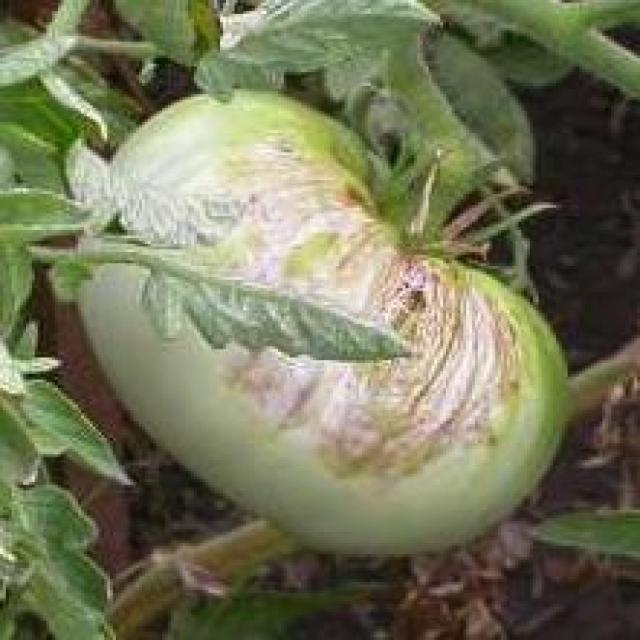Sunscald Fruit: (81, 85, 355, 316)
